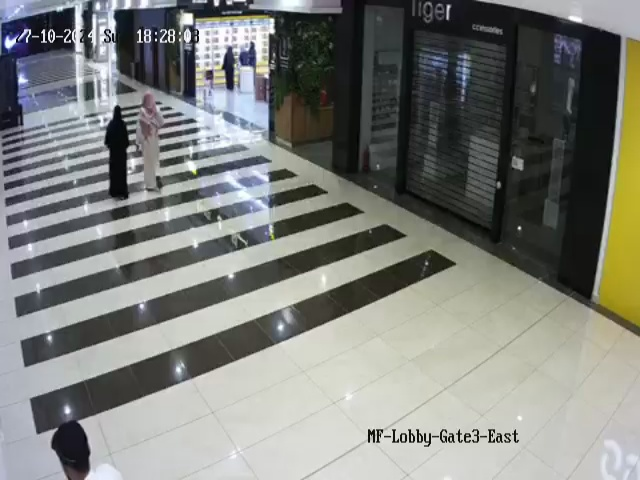female: (104, 105, 130, 200), (221, 45, 235, 91)
male: (50, 420, 123, 480), (136, 90, 165, 192)
